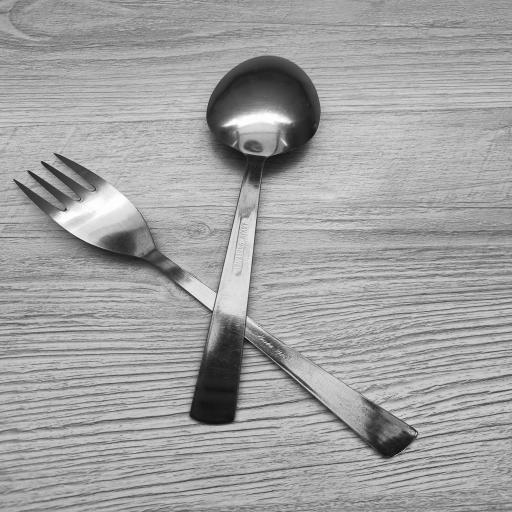fork: (12, 147, 420, 456)
spoon: (186, 55, 318, 427)
